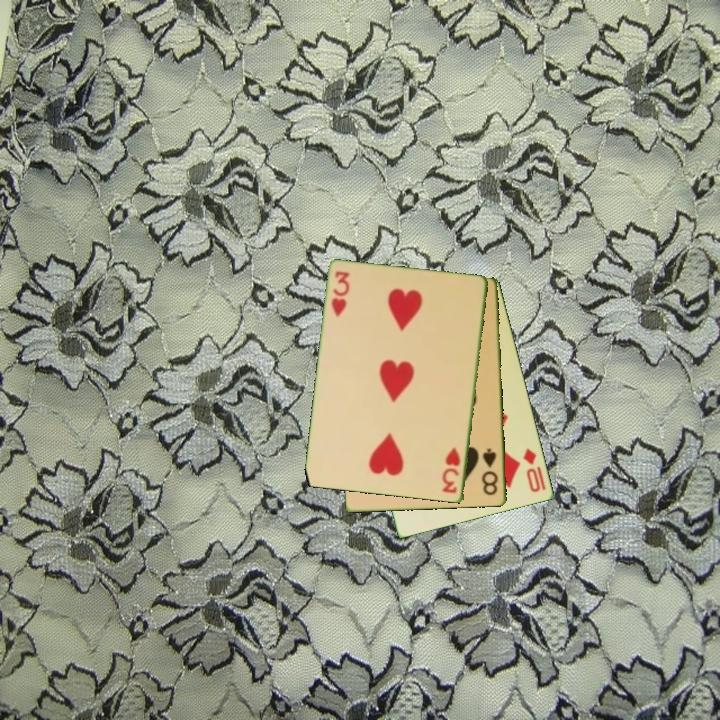10d: (520, 445, 544, 496)
3h: (439, 444, 464, 497), (328, 268, 352, 320)
8s: (479, 445, 501, 498)
